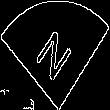N_SW: (31, 22, 79, 88)
